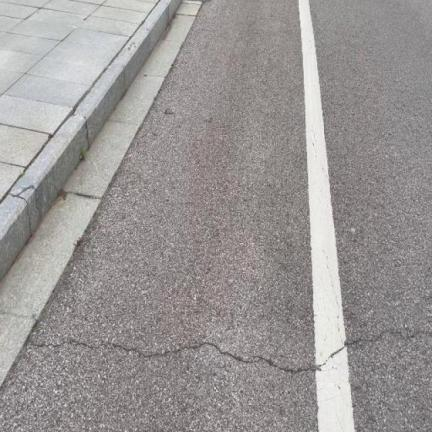Road: (0, 0, 317, 431)
